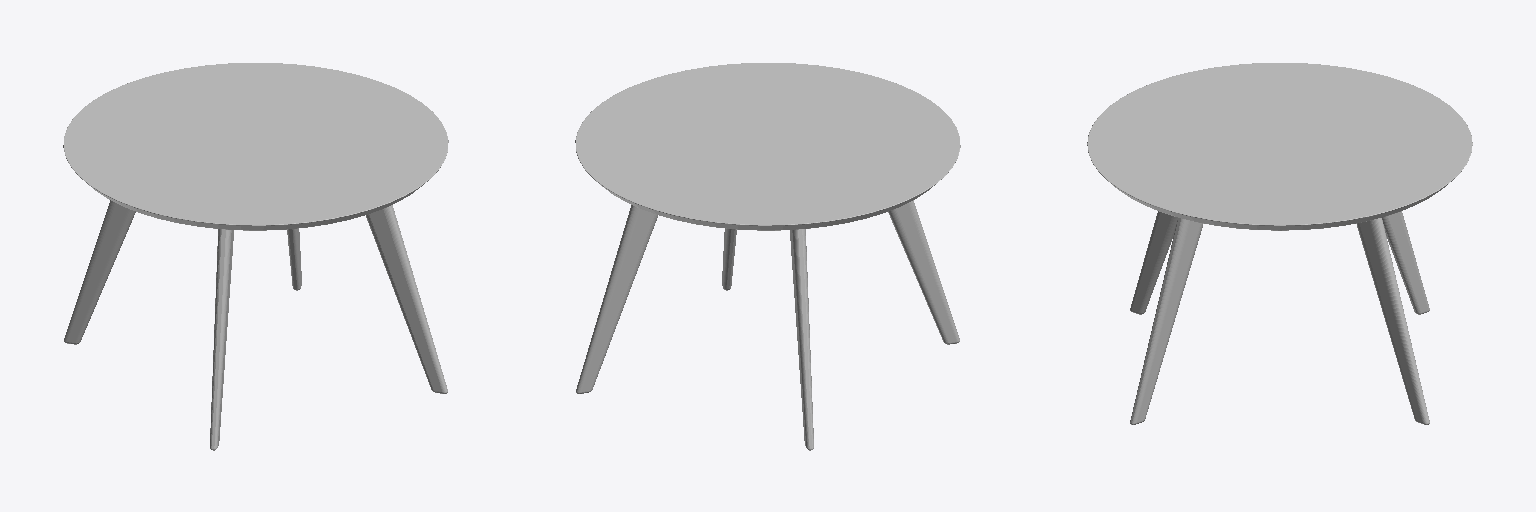
Rendered from table.obj.
The picture shows the model from 3 angles: view 1: azimuth 30°, elevation 25°; view 2: azimuth 150°, elevation 25°; view 3: azimuth 270°, elevation 25°; orthographic projection.
Visible parts, largest first — view 1: table; view 2: table; view 3: table.
Part boxes in pixels (left/top/right/bottom): table: left=63, top=63, right=448, bottom=450; table: left=575, top=63, right=960, bottom=450; table: left=1087, top=63, right=1472, bottom=424.
Bounding box in the file's own units: 1.39 × 0.8927 × 1.39.